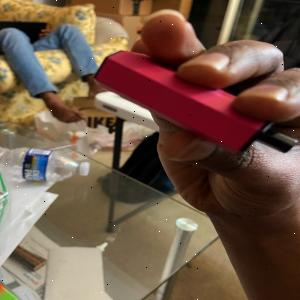Blume-E-Ciggirate: (94, 43, 300, 158)
